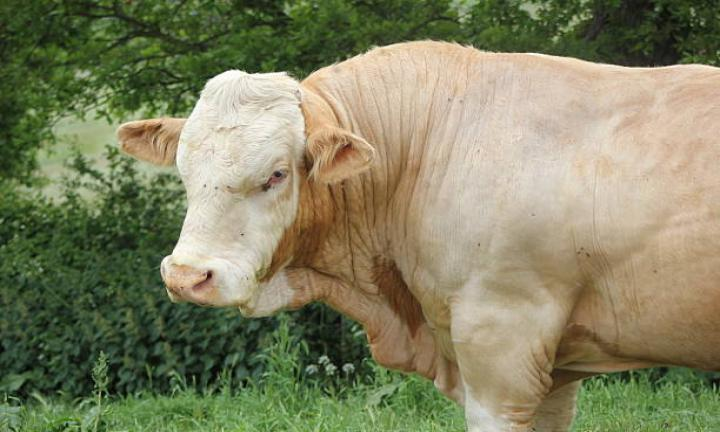Charolais: (118, 41, 719, 430)
